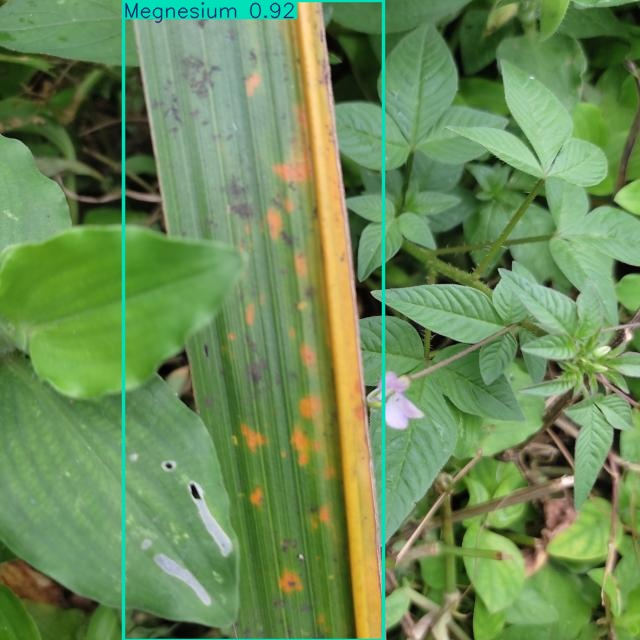Megnesium: (124, 0, 384, 640)
